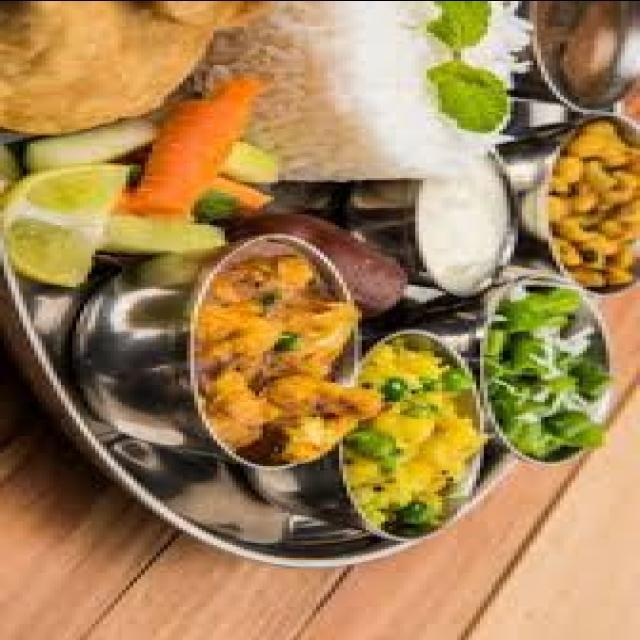dal: (314, 378, 503, 538)
papad: (350, 1, 536, 153)
rice: (347, 0, 530, 155)
veg-fry: (169, 248, 393, 476)
